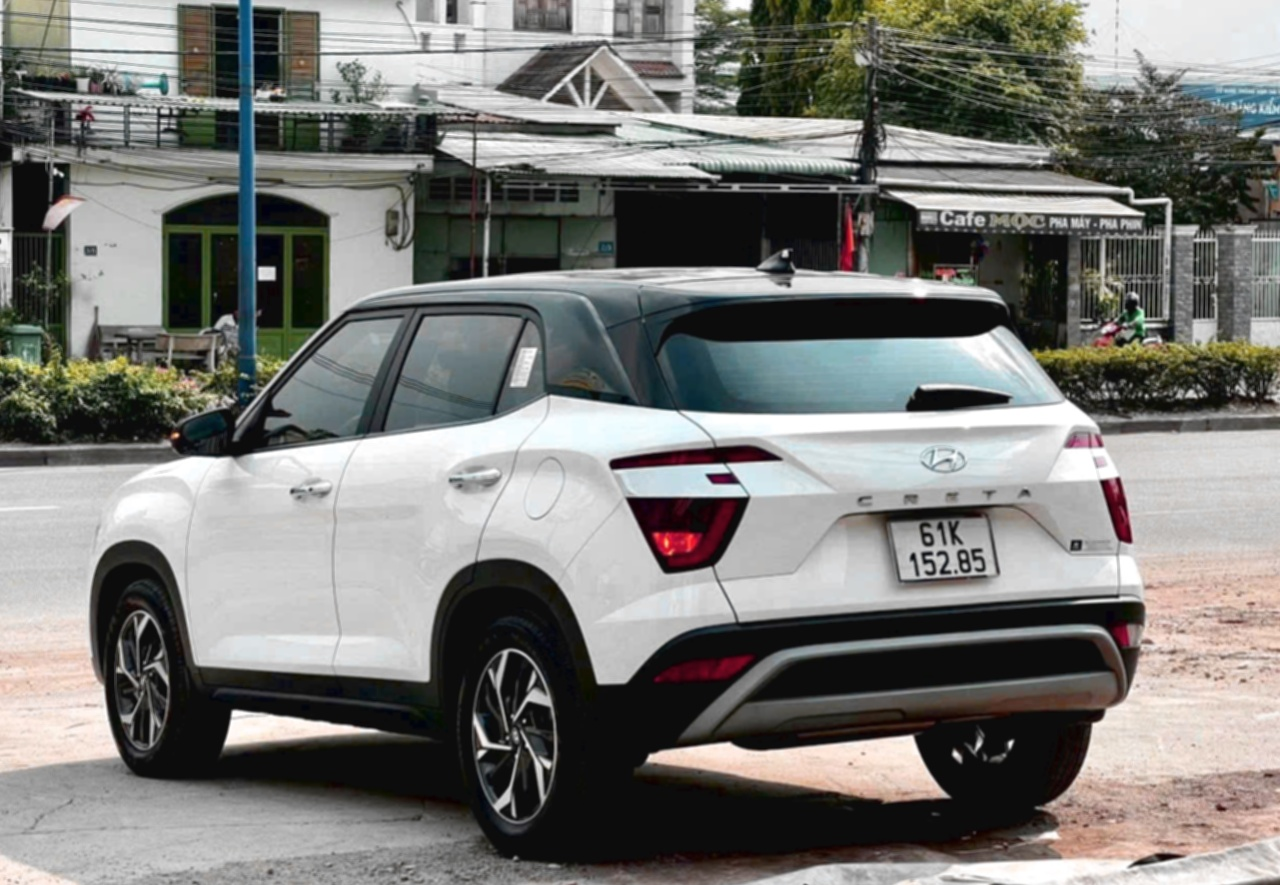Bien-so: (864, 522, 977, 603)
